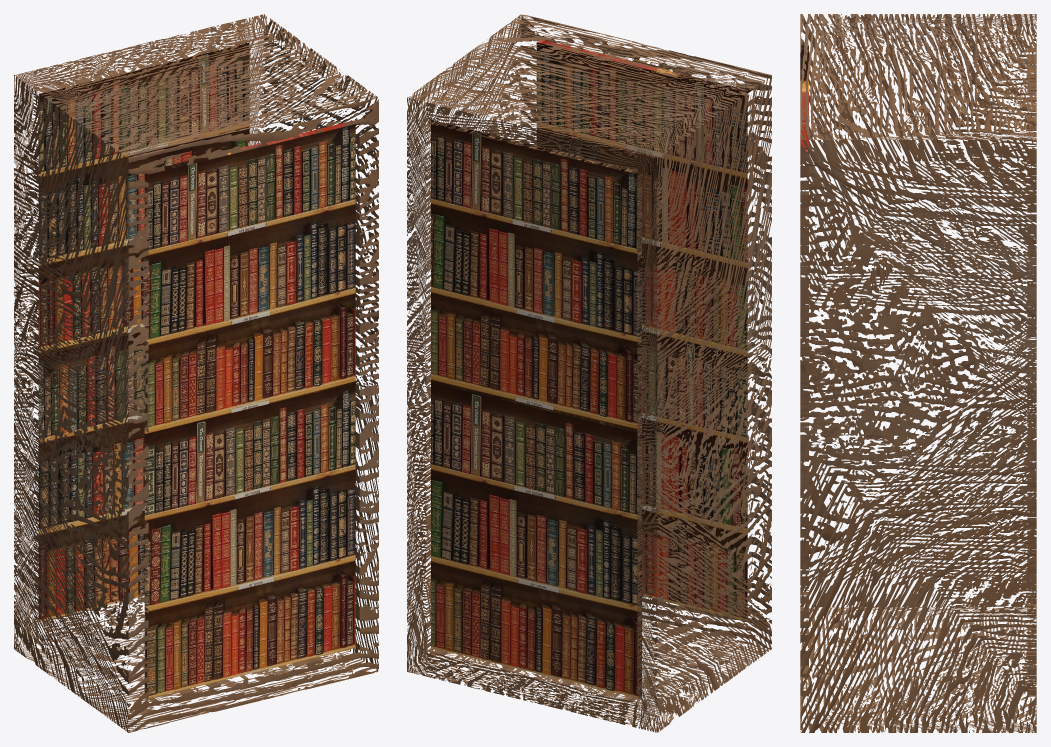
File: colonna.fbx
The picture shows the model from 3 angles, left to right: view 1: azimuth 30°, elevation 25°; view 2: azimuth 150°, elevation 25°; view 3: azimuth 270°, elevation 25°; orthographic projection. The views are drawn at different scales.
Visible parts, largest first — view 1: Cube; view 2: Cube; view 3: Cube.
Part boxes in pixels (box(x1,y1,x2,y2)): Cube: box(14, 14, 378, 732); Cube: box(407, 14, 771, 732); Cube: box(800, 14, 1036, 732).
Bounding box in the file's own units: 365 × 799 × 288.
